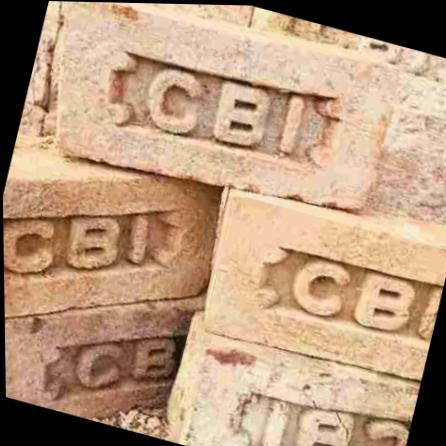brick: (26, 1, 400, 236), (2, 135, 231, 390), (196, 185, 446, 390), (4, 248, 196, 439), (180, 333, 420, 446), (362, 71, 446, 235), (248, 6, 405, 67)
